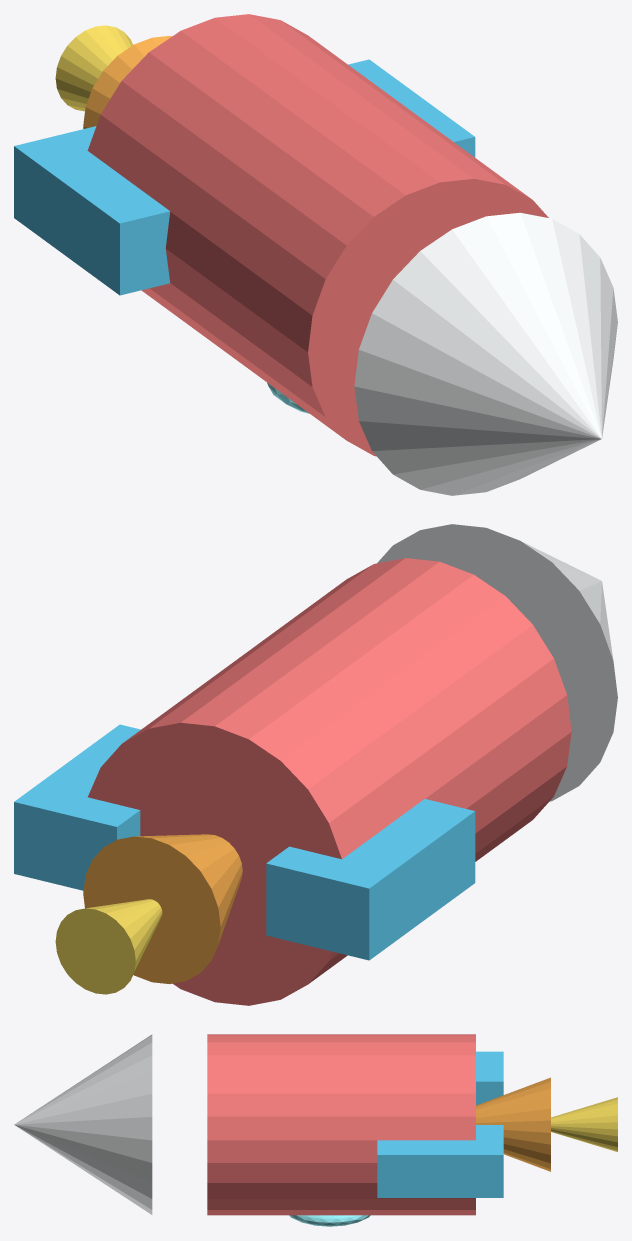
File: dash_rocket.glb
The picture shows the model from 3 angles, top to bottom: view 1: azimuth 30°, elevation 25°; view 2: azimuth 150°, elevation 25°; view 3: azimuth 270°, elevation 25°; orthographic projection. The views are drawn at different scales.
Parts seen in each view (by area): view 1: rocket_body, white, blue, yellow, blue_1, orange; view 2: rocket_body, blue, white, orange, blue_1, yellow; view 3: rocket_body, white, blue_1, orange, yellow, blue, cyan.
Part boxes in pixels (x1,y1,x2,y2): rocket_body: (87,14,548,456); white: (354,212,617,495); blue: (14,126,170,295); yellow: (55,25,132,111); blue_1: (348,59,475,157); orange: (83,35,171,128); rocket_body: (88,558,571,1005); blue: (266,799,475,960); white: (377,524,617,801); orange: (83,834,242,984); blue_1: (14,724,140,890); yellow: (55,899,162,994); rocket_body: (207,1034,475,1215); white: (14,1034,152,1214); blue_1: (377,1125,503,1197); orange: (476,1077,550,1171); yellow: (551,1097,617,1151); blue: (476,1051,503,1105); cyan: (289,1215,370,1226).
Bounding box in the file's own units: 0.62 × 0.49 × 1.53.
